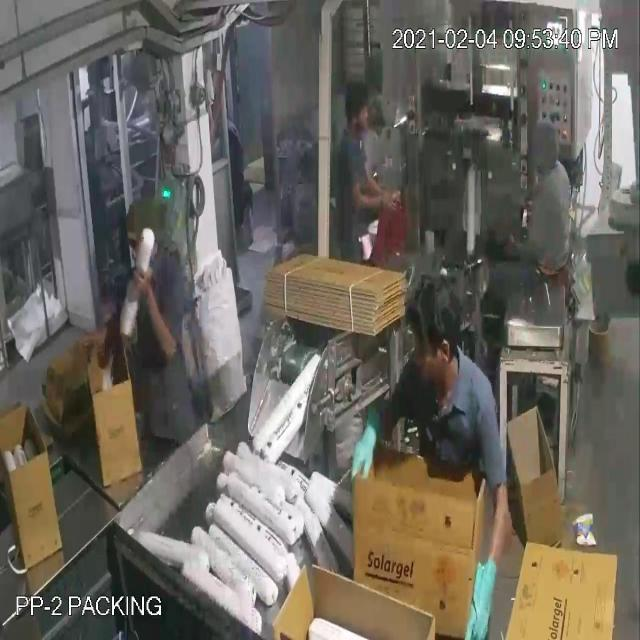No_Gloves: (44, 38, 478, 590)
